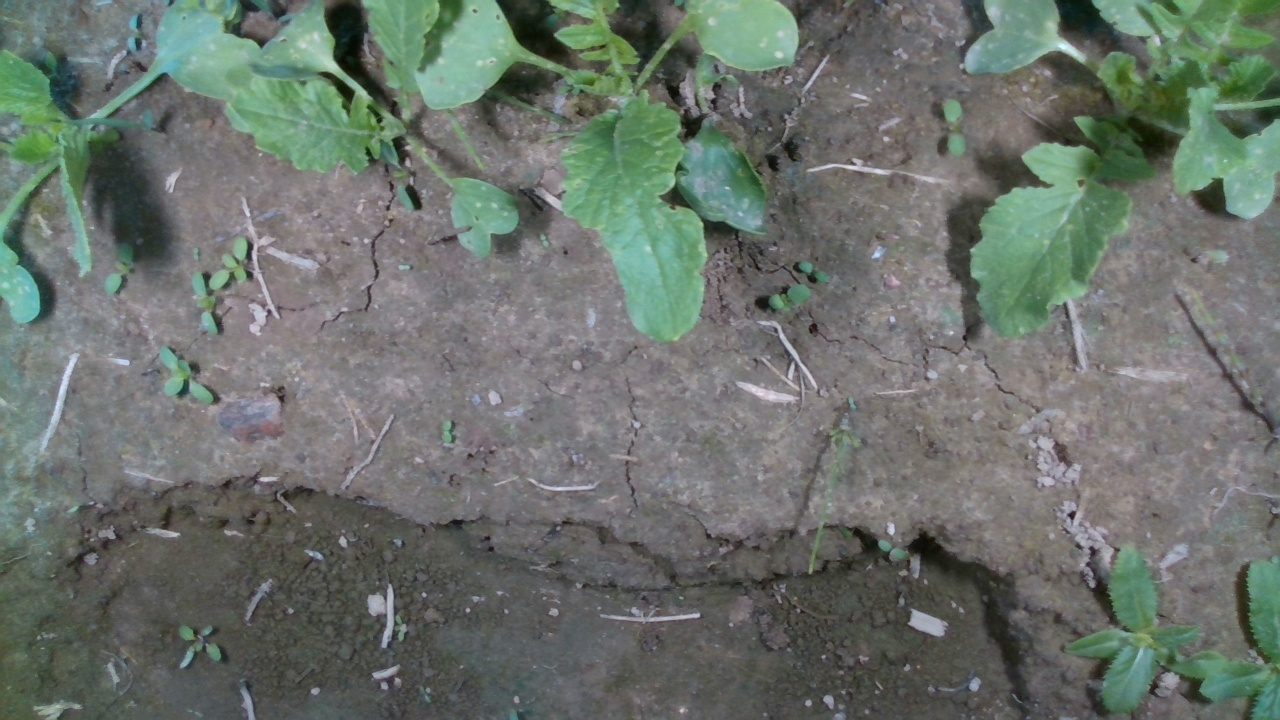weed: (158, 344, 214, 406), (177, 624, 222, 672), (102, 241, 134, 297), (941, 97, 967, 160), (768, 283, 811, 311), (796, 259, 829, 284), (877, 538, 909, 561), (440, 418, 452, 446), (538, 231, 550, 249), (190, 246, 200, 262)
